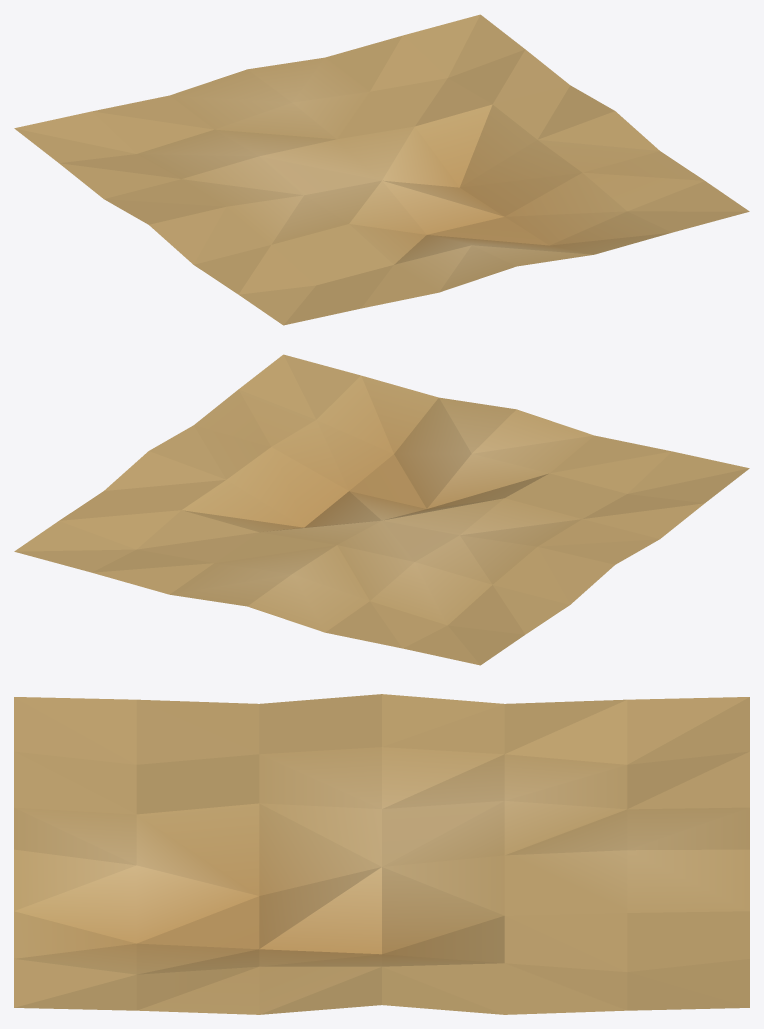
Rendered from Mixed_Ground_03.fbx.
3 views of the same model, one above another, from view 1: azimuth 30°, elevation 25°; view 2: azimuth 150°, elevation 25°; view 3: azimuth 270°, elevation 25° (orthographic). The views are drawn at different scales.
Parts seen in each view (by area): view 1: Ground_03.001; view 2: Ground_03.001; view 3: Ground_03.001.
Part boxes in pixels (x1=…): Ground_03.001: x1=14, y1=14, x2=749, y2=325; Ground_03.001: x1=14, y1=354, x2=749, y2=665; Ground_03.001: x1=14, y1=694, x2=749, y2=1014.
Size of the model in its own units: 1000 by 79.24 by 1000.
